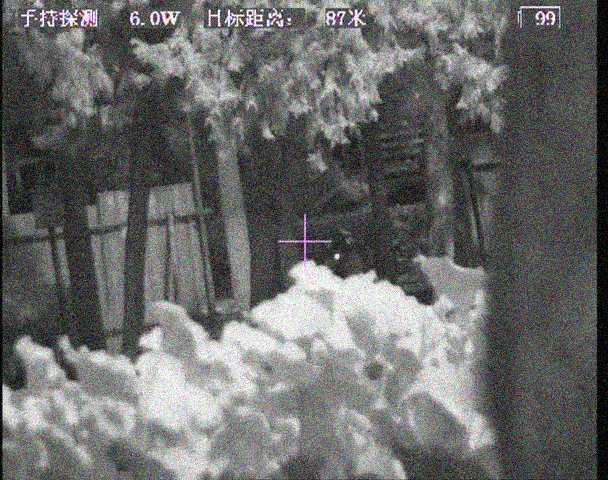my: (333, 252, 343, 261)
